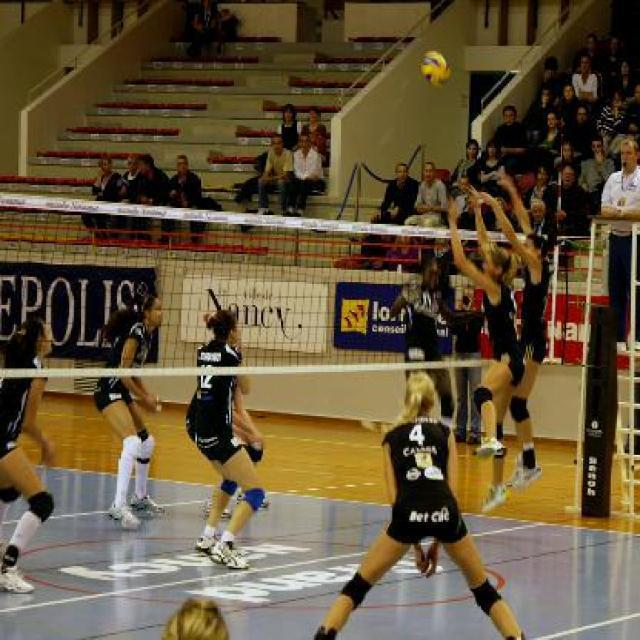volleyball: (420, 50, 450, 85)
